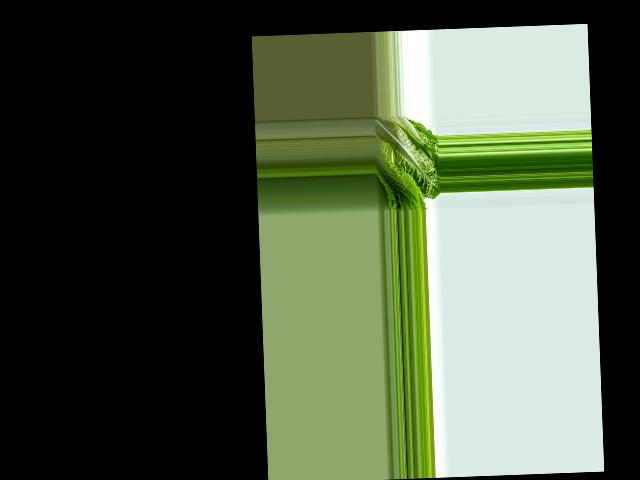lettuce: (373, 114, 440, 212)
